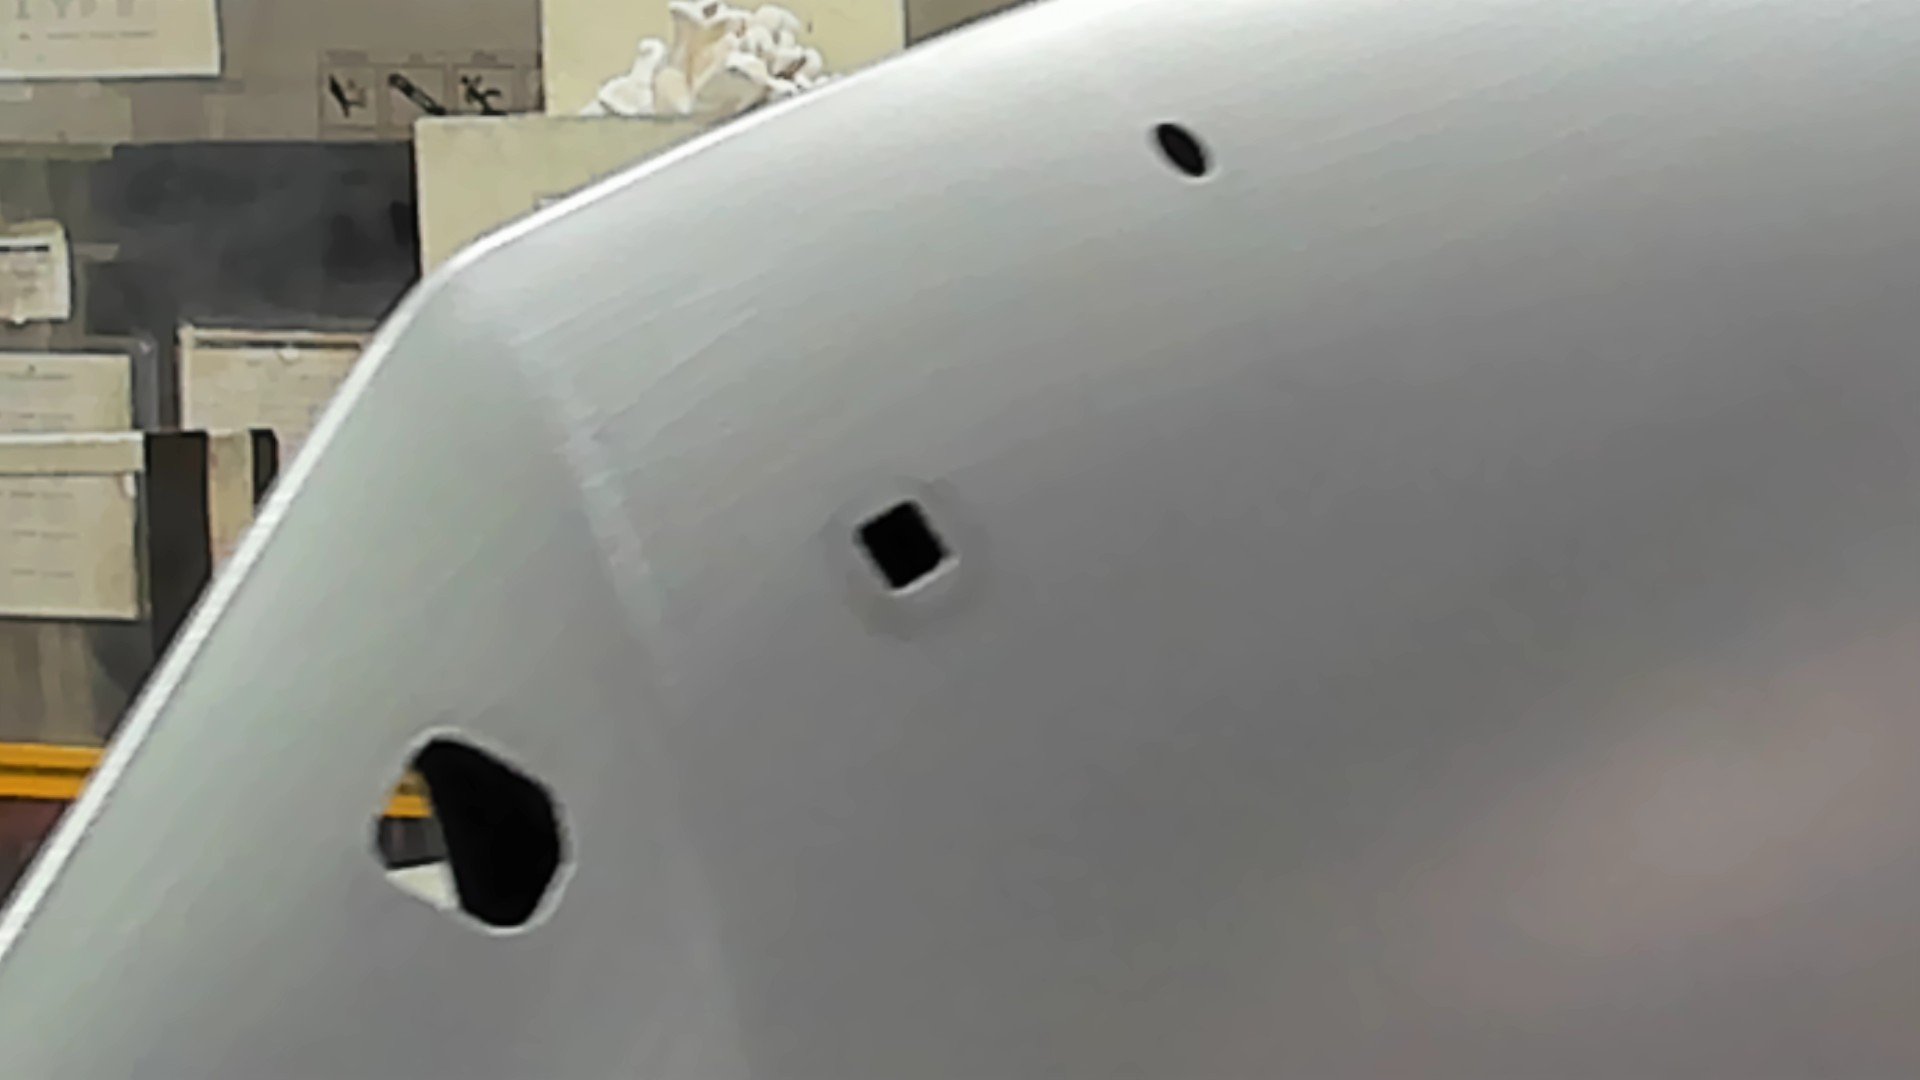capo: (964, 191, 1920, 1080)
chico: (1145, 117, 1218, 186)
grande: (355, 723, 579, 942)
mediano: (851, 495, 957, 601)
